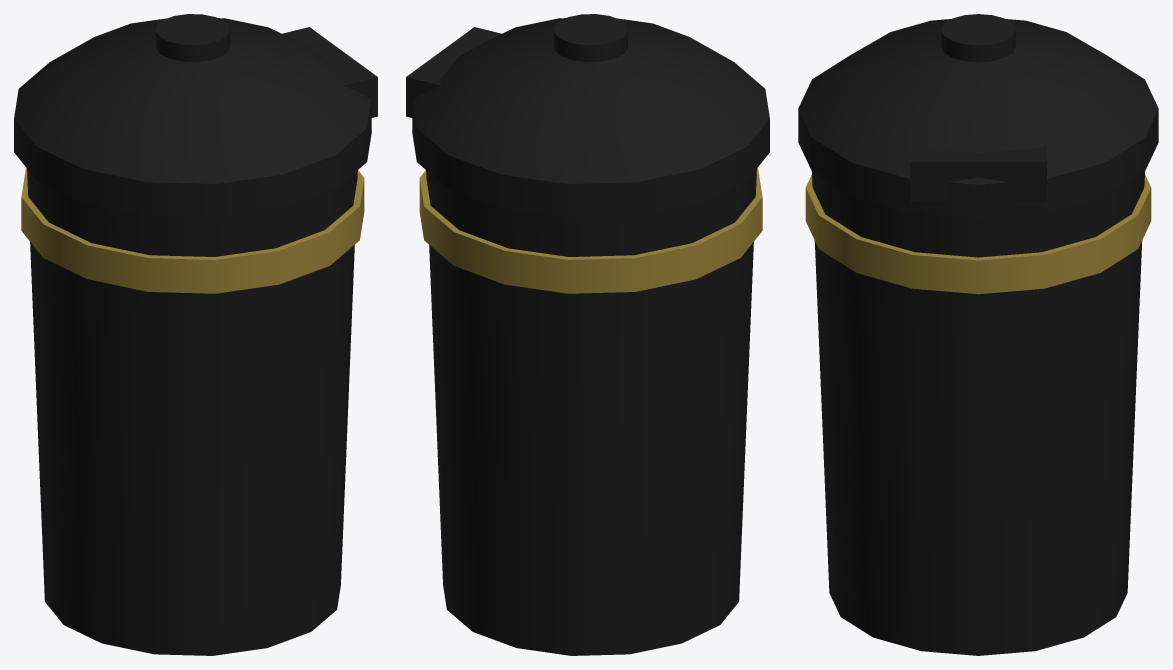
The model's file is SM_Prop_litter_bin_1.glb.
The picture shows the model from 3 angles, left to right: view 1: azimuth 30°, elevation 25°; view 2: azimuth 150°, elevation 25°; view 3: azimuth 270°, elevation 25°; orthographic projection.
Visible parts, largest first — view 1: SM_Prop_litter_bin_1; view 2: SM_Prop_litter_bin_1; view 3: SM_Prop_litter_bin_1.
Part boxes in pixels (x1,y1,x2,y2): SM_Prop_litter_bin_1: (14,14,377,655); SM_Prop_litter_bin_1: (406,14,769,655); SM_Prop_litter_bin_1: (798,14,1158,655).
Bounding box in the file's own units: 0.58 × 1 × 0.58.
